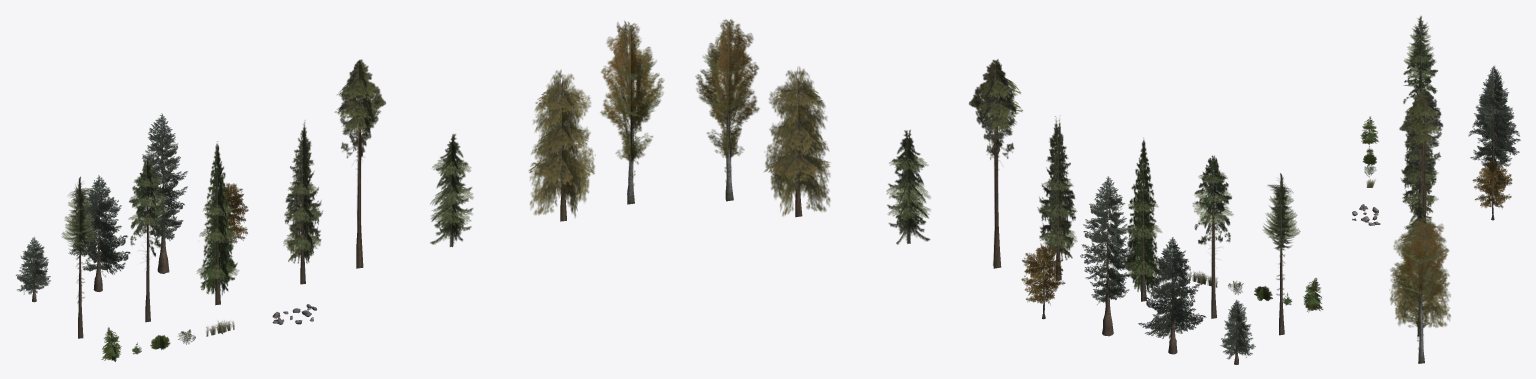
Rendered from trees.glb.
3 renders of one model, left to right at view 1: azimuth 30°, elevation 25°; view 2: azimuth 150°, elevation 25°; view 3: azimuth 270°, elevation 25°, orthographic. The views are drawn at different scales.
Parts seen in each view (by area): view 1: Background_Tree_Atlas.004, Background_Tree_Atlas.001, Background_Tree_Atlas, Background_Tree_Atlas.005, Background_Tree_Atlas.003, Tree_Branches_01, Background_Tree_Atlas.002, Tree_Branches_01.002, Background_Tree_Atlas.007, Background_Tree_Atlas.006, Tree_Branches_01.001, Tree_Branches_02; view 2: Background_Tree_Atlas.004, Background_Tree_Atlas.001, Tree_Branches_01, Background_Tree_Atlas.005, Tree_Branches_01.002, Background_Tree_Atlas, Background_Tree_Atlas.003, Background_Tree_Atlas.002, Background_Tree_Atlas.007, Background_Tree_Atlas.006, Tree_Branches_02, Tree_Branches_01.001 (+1 smaller); view 3: Background_Tree_Atlas.001, Background_Tree_Atlas.004, Tree_Branches_01, Background_Tree_Atlas.005, Background_Tree_Atlas.003, Tree_Branches_02, Tree_Branches_01.002, Background_Tree_Atlas.007, Background_Tree_Atlas.006, Background_Tree_Atlas, Background_Tree_Atlas.002, Background_Tree_Atlas.009 (+1 smaller).
Part boxes in pixels (left/top/right/bottom): Background_Tree_Atlas.004: left=528, top=70, right=595, bottom=221; Background_Tree_Atlas.001: left=600, top=21, right=664, bottom=204; Background_Tree_Atlas: left=196, top=141, right=239, bottom=305; Background_Tree_Atlas.005: left=334, top=59, right=385, bottom=268; Background_Tree_Atlas.003: left=283, top=120, right=322, bottom=284; Tree_Branches_01: left=139, top=113, right=187, bottom=240; Background_Tree_Atlas.002: left=430, top=134, right=473, bottom=247; Tree_Branches_01.002: left=68, top=175, right=130, bottom=276; Background_Tree_Atlas.007: left=128, top=159, right=168, bottom=322; Background_Tree_Atlas.006: left=61, top=176, right=98, bottom=338; Tree_Branches_01.001: left=15, top=237, right=50, bottom=294; Tree_Branches_02: left=204, top=183, right=248, bottom=243; Background_Tree_Atlas.004: left=764, top=67, right=830, bottom=217; Background_Tree_Atlas.001: left=695, top=19, right=759, bottom=201; Tree_Branches_01: left=1080, top=176, right=1135, bottom=304; Background_Tree_Atlas.005: left=969, top=59, right=1023, bottom=268; Tree_Branches_01.002: left=1138, top=237, right=1206, bottom=339; Background_Tree_Atlas: left=1123, top=138, right=1162, bottom=301; Background_Tree_Atlas.003: left=1037, top=115, right=1077, bottom=280; Background_Tree_Atlas.002: left=886, top=130, right=930, bottom=244; Background_Tree_Atlas.007: left=1192, top=155, right=1233, bottom=318; Background_Tree_Atlas.006: left=1262, top=173, right=1300, bottom=335; Tree_Branches_02: left=1021, top=243, right=1065, bottom=304; Tree_Branches_01.001: left=1220, top=300, right=1255, bottom=359; Background_Tree_Atlas.001: left=1390, top=217, right=1449, bottom=363; Background_Tree_Atlas.004: left=1389, top=214, right=1450, bottom=336; Tree_Branches_01: left=1476, top=65, right=1512, bottom=167; Background_Tree_Atlas.005: left=1399, top=88, right=1443, bottom=217; Background_Tree_Atlas.003: left=1400, top=117, right=1438, bottom=215; Tree_Branches_02: left=1472, top=160, right=1512, bottom=208; Tree_Branches_01.002: left=1468, top=81, right=1520, bottom=161; Background_Tree_Atlas.007: left=1403, top=40, right=1437, bottom=113; Background_Tree_Atlas.006: left=1404, top=16, right=1436, bottom=80; Background_Tree_Atlas: left=1401, top=69, right=1438, bottom=191; Background_Tree_Atlas.002: left=1401, top=200, right=1436, bottom=265; Background_Tree_Atlas.009: left=1360, top=116, right=1378, bottom=144.
Bounding box in the file's own units: 101 × 33.75 × 30.38.
Materials: 6 (6 with a texture image).
